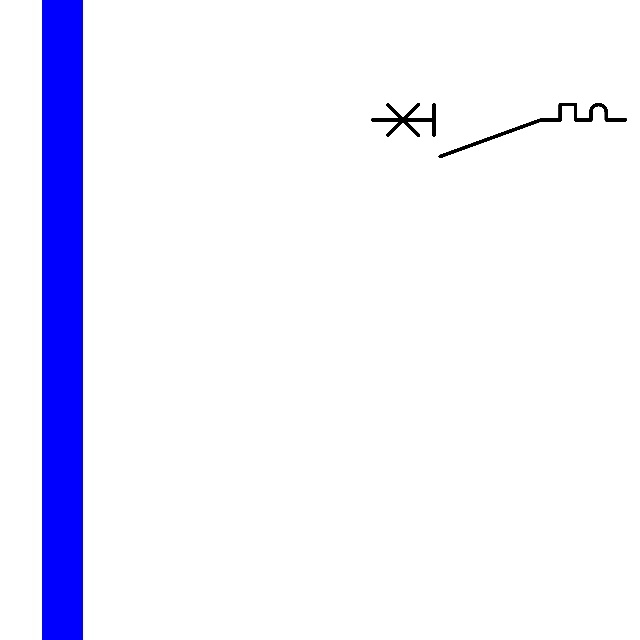interruptor_termomagnetico: (366, 98, 632, 163)
